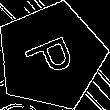P_NE: (20, 29, 82, 84)
